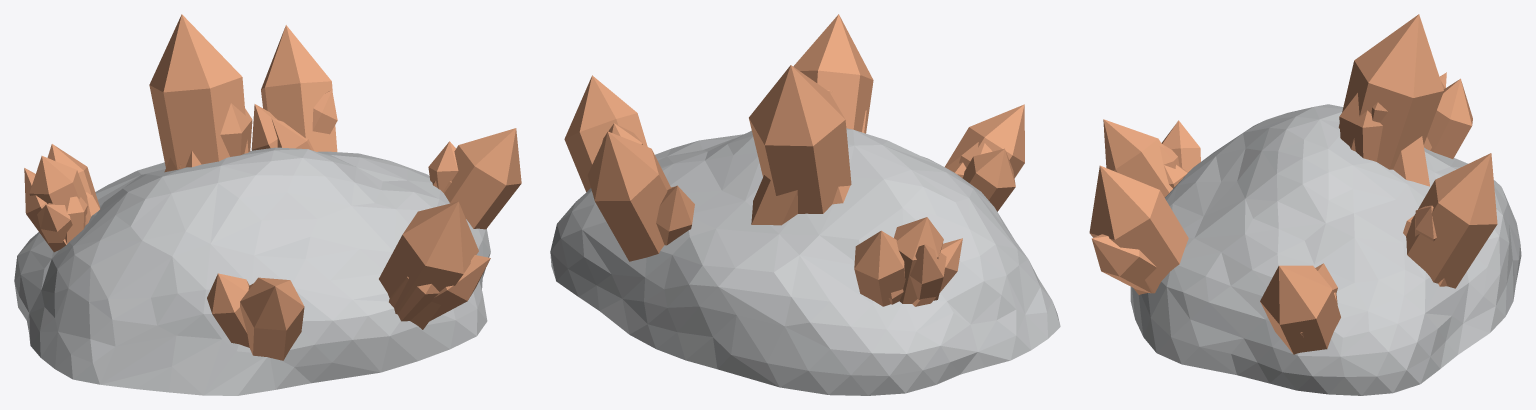
File: CopperOre2.fbx
The picture shows the model from 3 angles, left to right: view 1: azimuth 30°, elevation 25°; view 2: azimuth 150°, elevation 25°; view 3: azimuth 270°, elevation 25°; orthographic projection. The views are drawn at different scales.
Visible parts, largest first — view 1: CopperOre2; view 2: CopperOre2; view 3: CopperOre2.
Boxes of the visible parts, <box> form: CopperOre2: <box>14,14,521,395</box>; CopperOre2: <box>550,14,1060,395</box>; CopperOre2: <box>1089,14,1521,395</box>.
Bounding box in the file's own units: 2.43 × 1.36 × 2.
